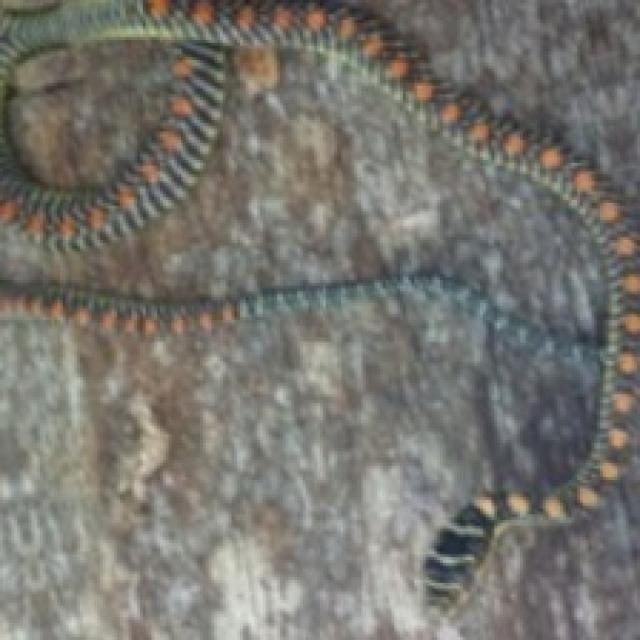paradise tree snake: (0, 0, 640, 516), (0, 275, 579, 358)
